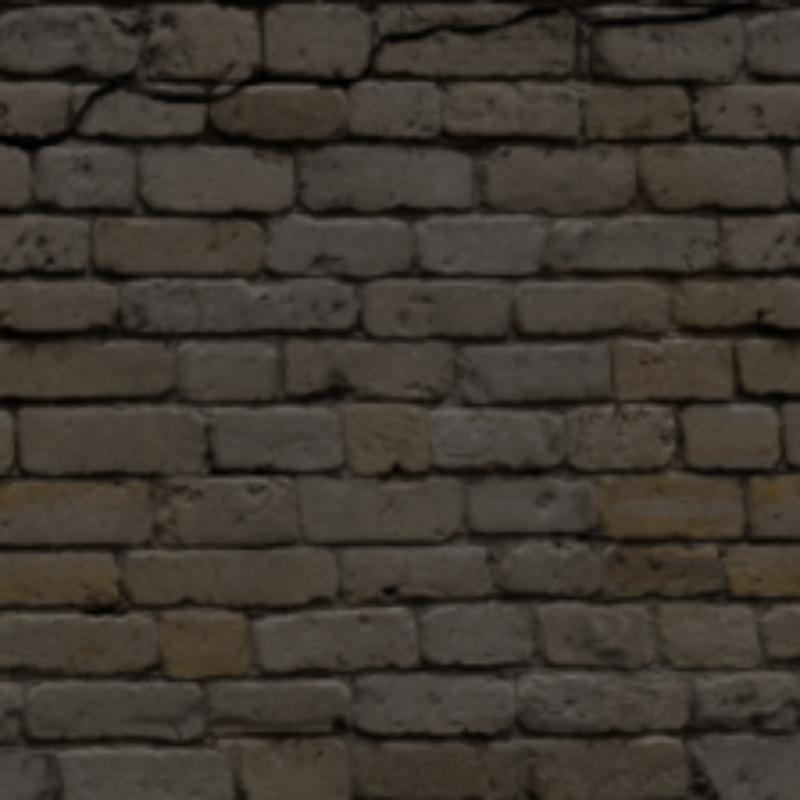pothole: (0, 4, 568, 150), (568, 0, 757, 25)
